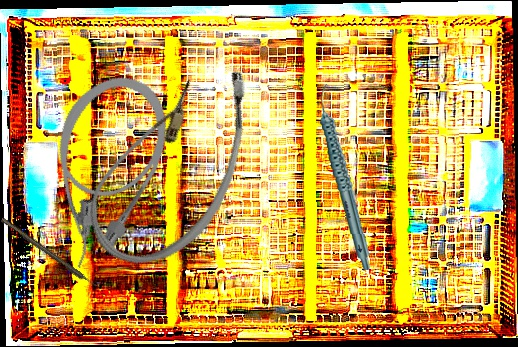Cannula: (73, 36, 274, 289), (15, 59, 187, 282)
Handpiece: (318, 83, 371, 271)
Hook Surgical: (0, 216, 98, 290)
